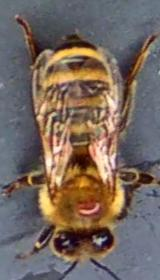varroa_mite: (70, 190, 106, 217)
